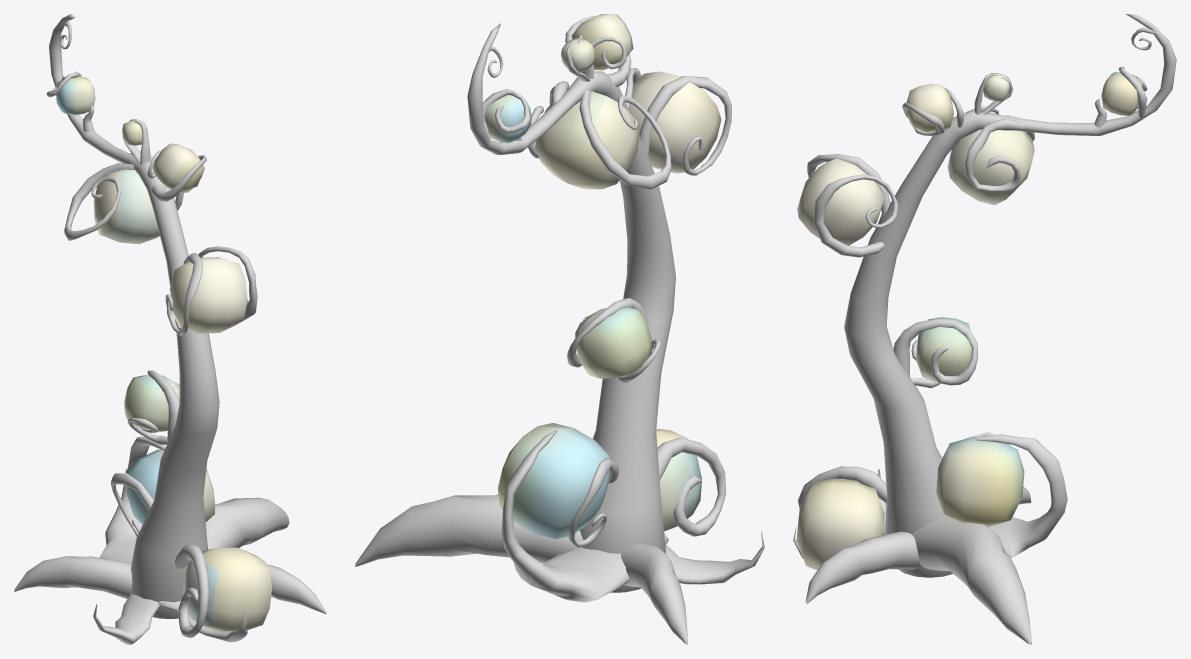
The model's file is LightTree.fbx.
The picture shows the model from 3 angles, left to right: view 1: azimuth 30°, elevation 25°; view 2: azimuth 150°, elevation 25°; view 3: azimuth 270°, elevation 25°; orthographic projection. The views are drawn at different scales.
Parts seen in each view (by area): view 1: LightTree; view 2: LightTree; view 3: LightTree.
Boxes of the visible parts, box(x1,y1,x2,y2) form: LightTree: box(14, 14, 326, 644); LightTree: box(355, 14, 764, 644); LightTree: box(793, 14, 1176, 644).
Size of the model in its own units: 77.29 by 143 by 89.36.
